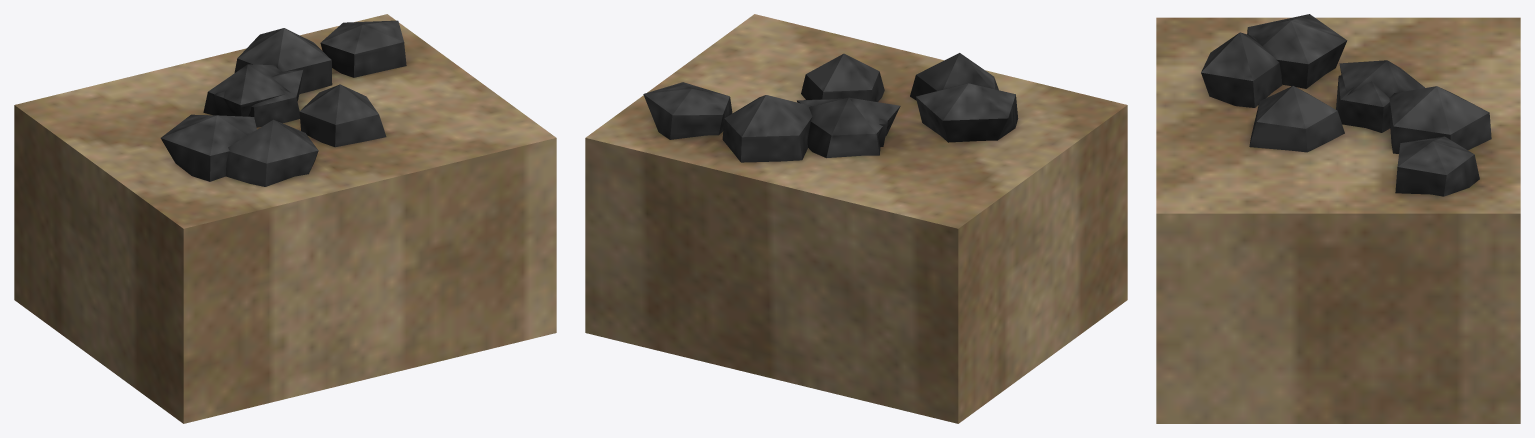
File: SM_Loot_CoalCrate.fbx
3 views of the same model, side by side, from view 1: azimuth 30°, elevation 25°; view 2: azimuth 150°, elevation 25°; view 3: azimuth 270°, elevation 25° (orthographic). The views are drawn at different scales.
Visible parts, largest first — view 1: SM_Loot_CoalCrate; view 2: SM_Loot_CoalCrate; view 3: SM_Loot_CoalCrate.
Part boxes in pixels (box(x1,y1,x2,y2)): SM_Loot_CoalCrate: box(14, 14, 556, 423); SM_Loot_CoalCrate: box(585, 14, 1127, 423); SM_Loot_CoalCrate: box(1156, 14, 1520, 423).
Size of what is drawn, in the model's own units: 70 by 43.84 by 55.
1 material, 1 textured.
